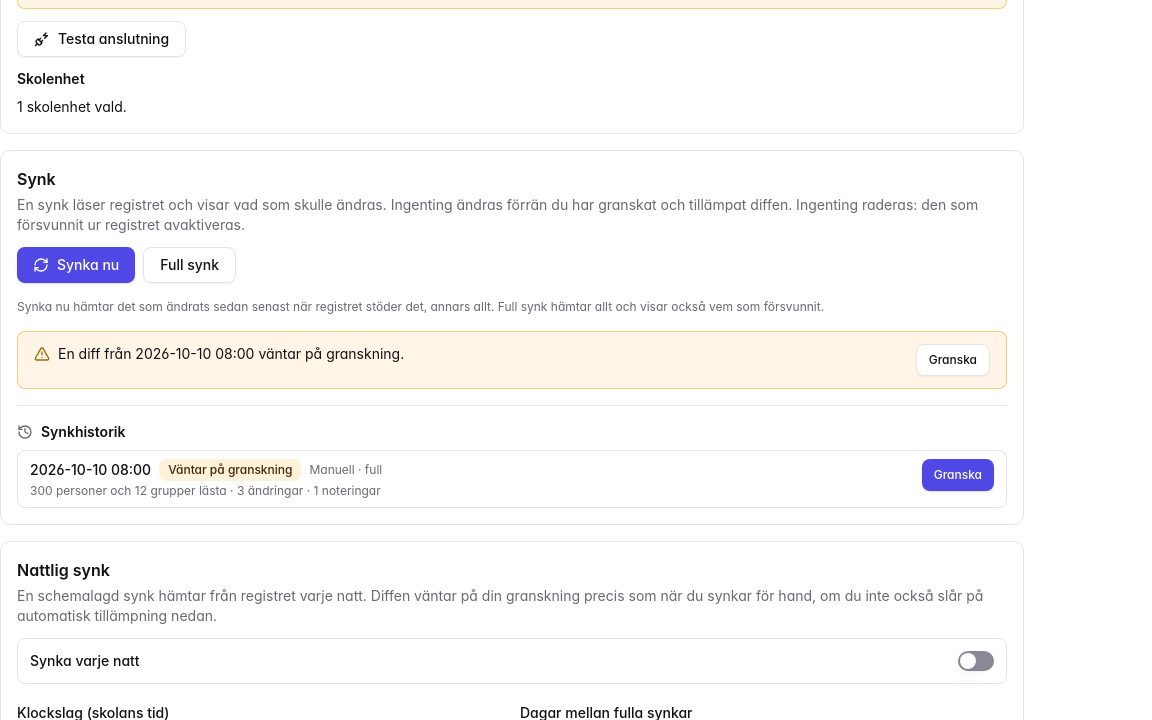
Test: /admin/integrations — the register › stops at a stale basis and says to sync again
The image size is (1152, 720).
(page scrolled)
Click the 1st button "Granska": click(953, 360) [916,344,990,376]
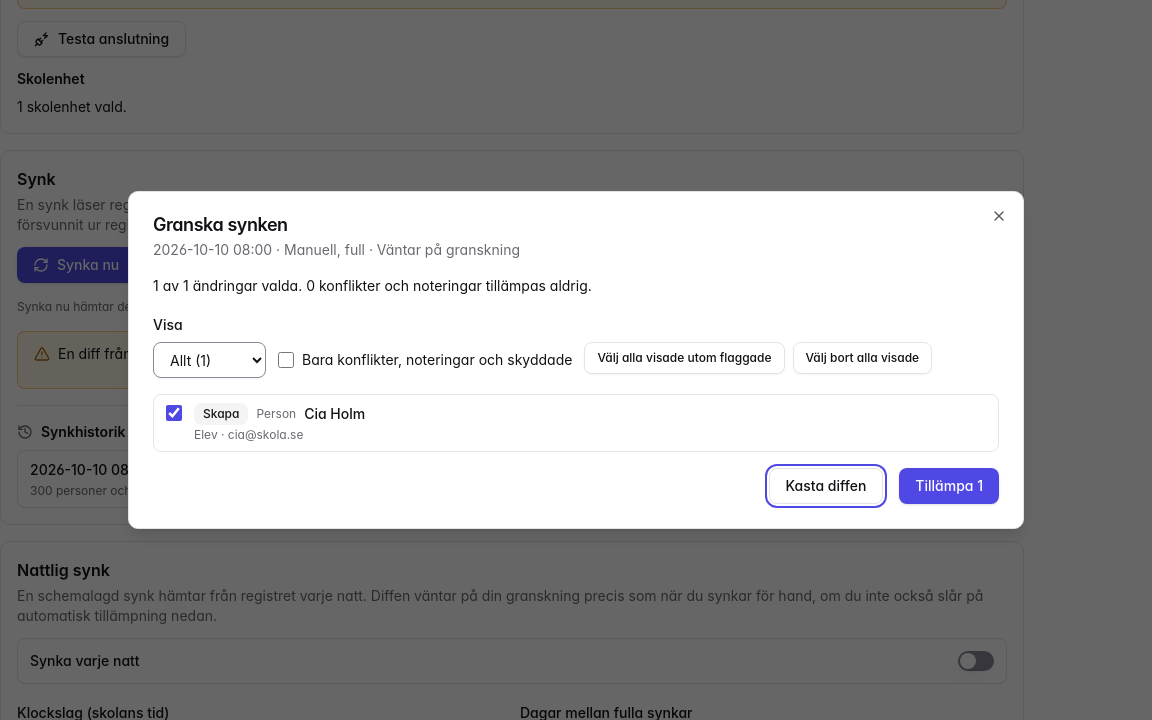
Click the button "Tillämpa 1": click(949, 486) [899,468,999,504]
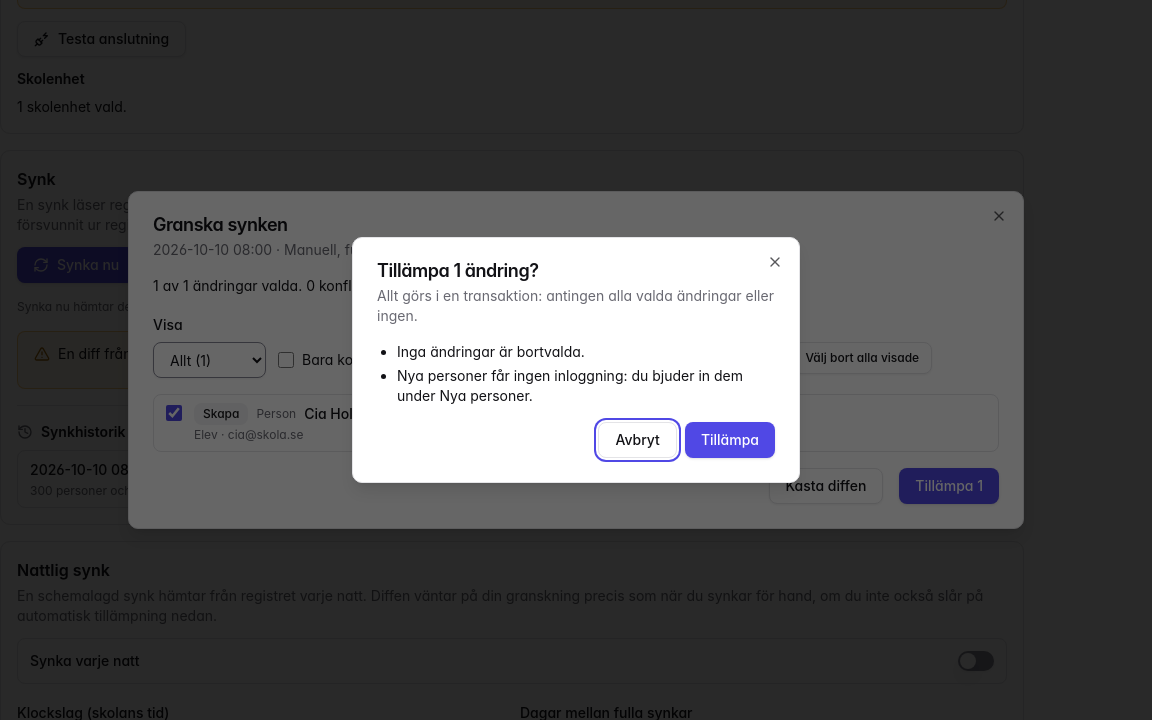
Click the button "Tillämpa": click(730, 440) [685,422,775,458]
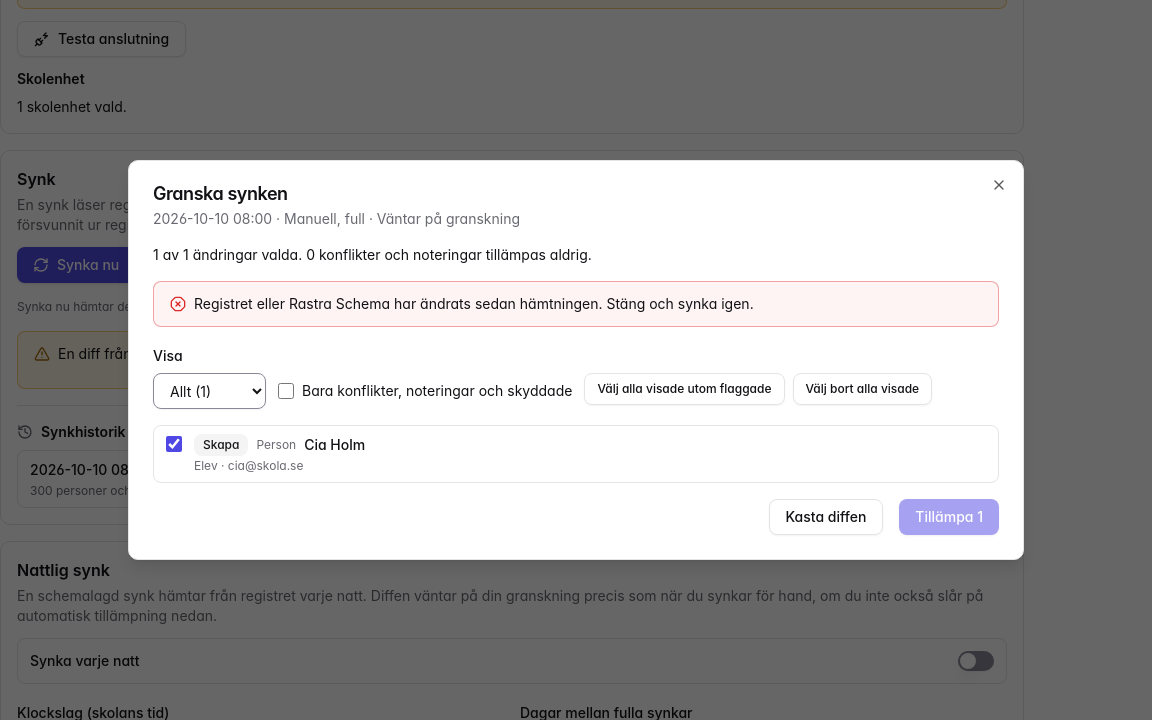
Now the text "Registret eller Rastra Schema har ändrats sedan hämtningen. Stäng och synka igen." is shown, box [194,295,754,312]
Now the button "Tillämpa 1" is disabled, box [899,499,999,535]
